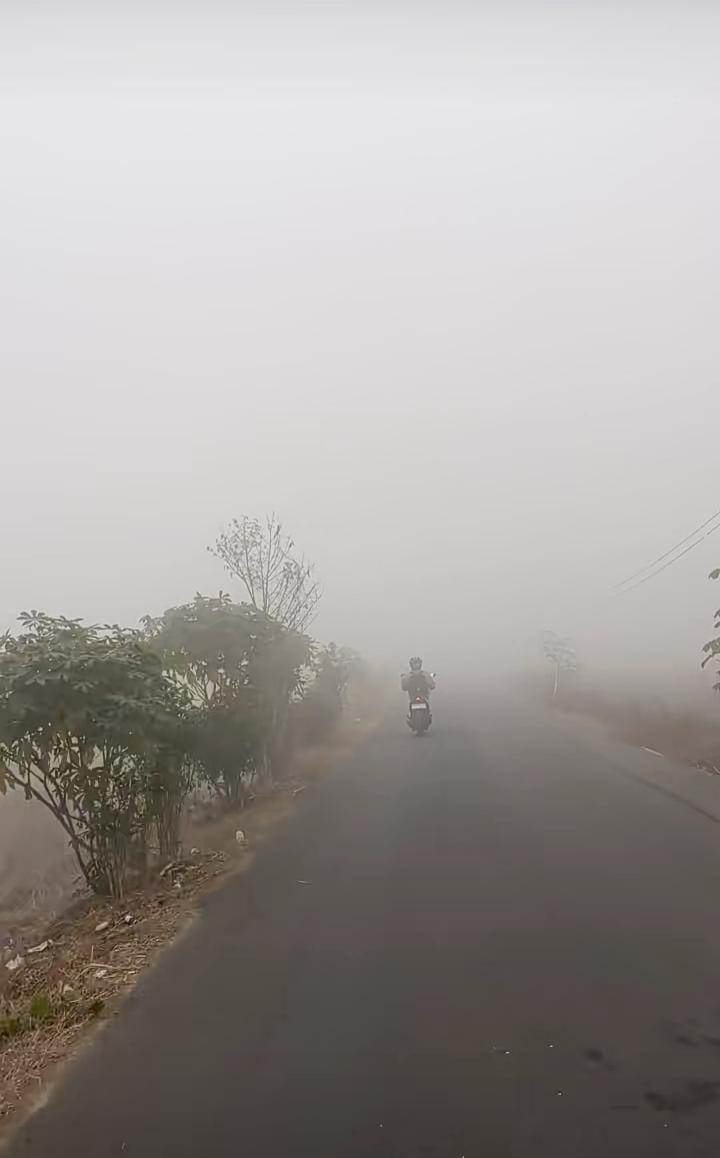Deteksi-Objek-Citra-Berasap: (0, 0, 720, 1158)
Kendaraan: (404, 685, 434, 737)
Manusia: (400, 655, 437, 714)
Vegetasi: (0, 514, 355, 907), (542, 628, 579, 713), (700, 565, 720, 676)
